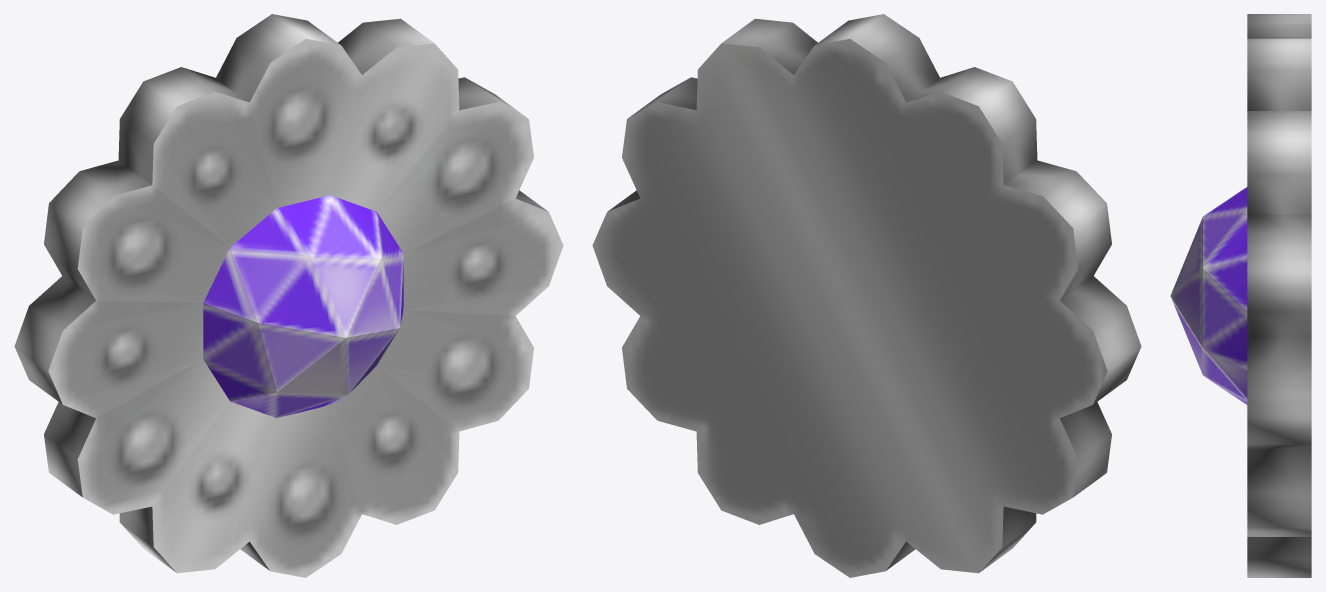
Rendered from item_015.fbx.
The picture shows the model from 3 angles, left to right: view 1: azimuth 30°, elevation 25°; view 2: azimuth 150°, elevation 25°; view 3: azimuth 270°, elevation 25°; orthographic projection. The views are drawn at different scales.
Visible parts, largest first — view 1: item015; view 2: item015; view 3: item015.
Boxes of the visible parts, x1,y1,x2,y2 form: item015: (14, 14, 563, 577); item015: (592, 14, 1141, 577); item015: (1170, 14, 1311, 577).
Size of the model in its own units: 0.2945 by 0.2945 by 0.0735.
